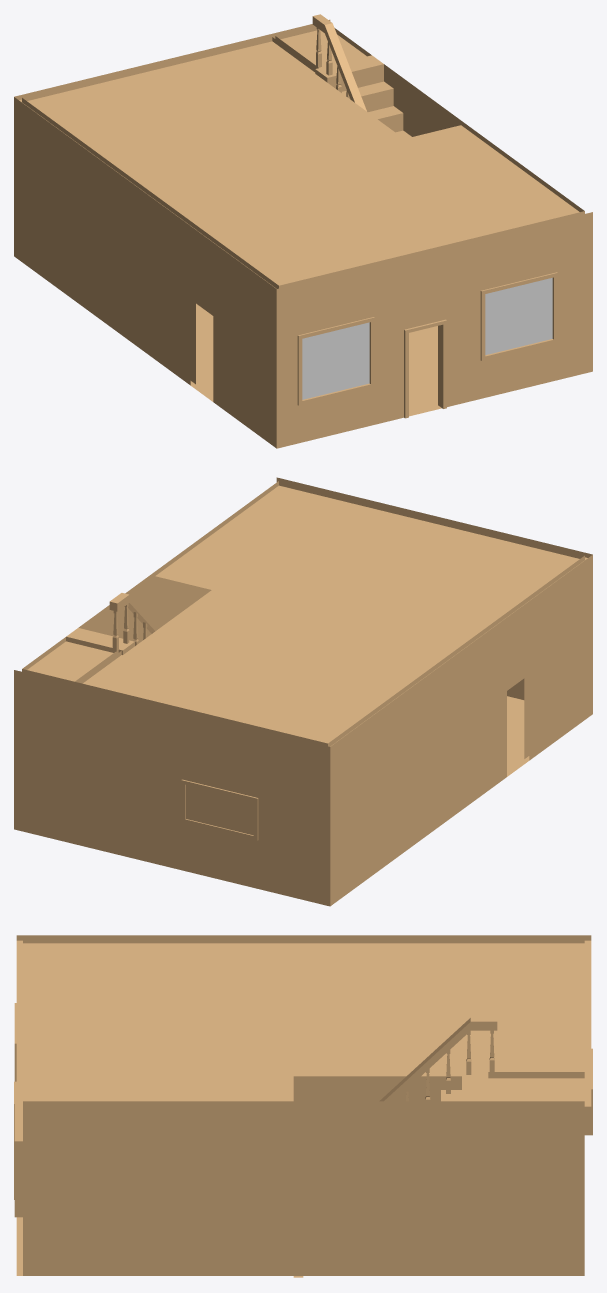
File: PrimerPiso.fbx
3 renders of one model, top to bottom at view 1: azimuth 30°, elevation 25°; view 2: azimuth 150°, elevation 25°; view 3: azimuth 270°, elevation 25°, orthographic. The views are drawn at different scales.
Parts seen in each view (by area): view 1: Pared_PP, Techo_PP, Cristasl, Cristal2, Suelo_PP, Escaleras_PP, MarcoVentanaA, MarcoVentanaB, Puerta_PP, Barandal; view 2: Pared_PP, Techo_PP, Cube.060, Suelo_PP, MarcoVentana2, Escaleras_PP, Barandal; view 3: Pared_PP, Techo_PP, Barandal, Escaleras_PP, MarcoVentanaA, Pared_Escaleras_PP, Postes.
Part boxes in pixels (x1,y1,x2,y2): Pared_PP: [14, 19, 592, 448]; Techo_PP: [19, 30, 579, 288]; Cristasl: [302, 322, 369, 399]; Cristal2: [485, 278, 552, 354]; Suelo_PP: [190, 303, 441, 416]; Escaleras_PP: [315, 55, 411, 138]; MarcoVentanaA: [480, 272, 557, 360]; MarcoVentanaB: [297, 317, 374, 405]; Puerta_PP: [404, 319, 446, 418]; Barandal: [312, 14, 366, 111]; Pared_PP: [14, 477, 592, 906]; Techo_PP: [27, 485, 587, 746]; Cube.060: [186, 785, 253, 835]; Suelo_PP: [507, 696, 529, 776]; MarcoVentana2: [181, 779, 258, 840]; Escaleras_PP: [66, 628, 134, 654]; Barandal: [109, 593, 159, 633]; Pared_PP: [16, 935, 591, 1275]; Techo_PP: [16, 940, 591, 1106]; Barandal: [379, 1017, 497, 1101]; Escaleras_PP: [293, 1071, 488, 1277]; MarcoVentanaA: [14, 1100, 22, 1217]; Pared_Escaleras_PP: [488, 1072, 584, 1078]; Postes: [405, 1031, 471, 1101].
Bounding box in the file's own units: 829 × 530 × 1203.
